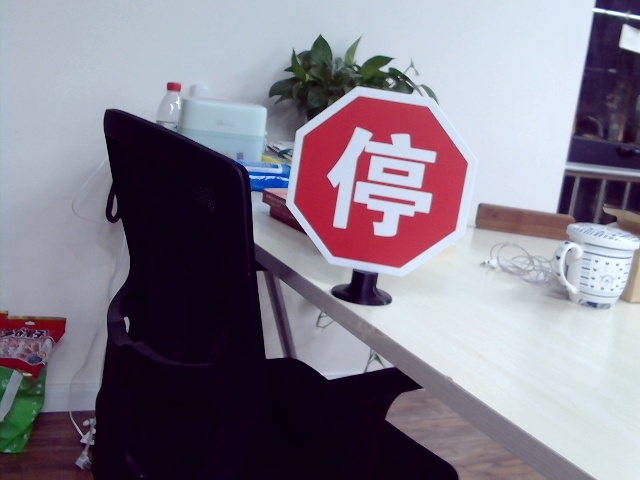stop: (327, 124, 434, 235)
